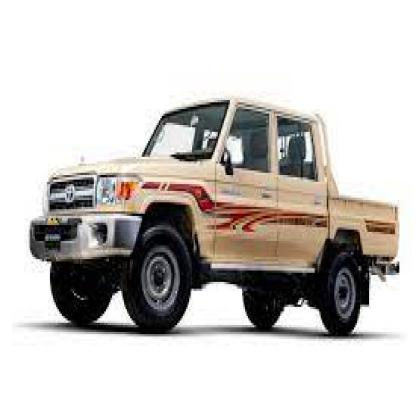pickup: (23, 77, 404, 348)
